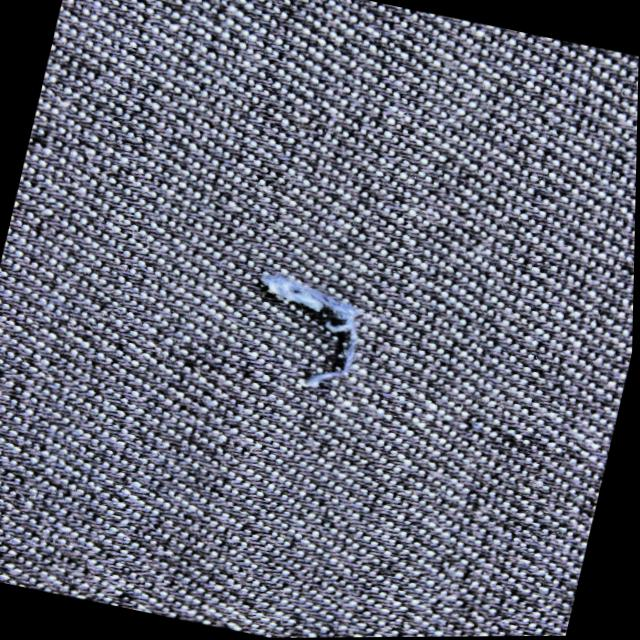Stitch: (214, 246, 433, 417)
